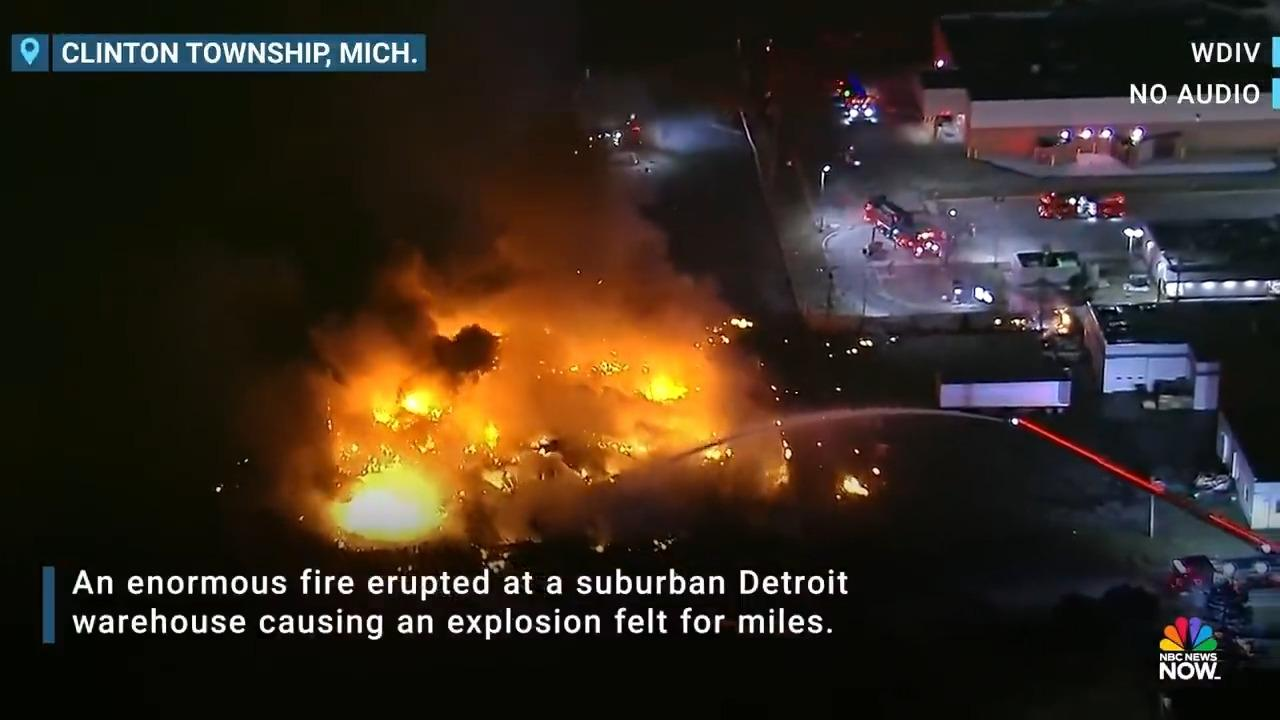fire: (311, 366, 713, 538), (449, 300, 726, 363), (831, 460, 885, 507)
